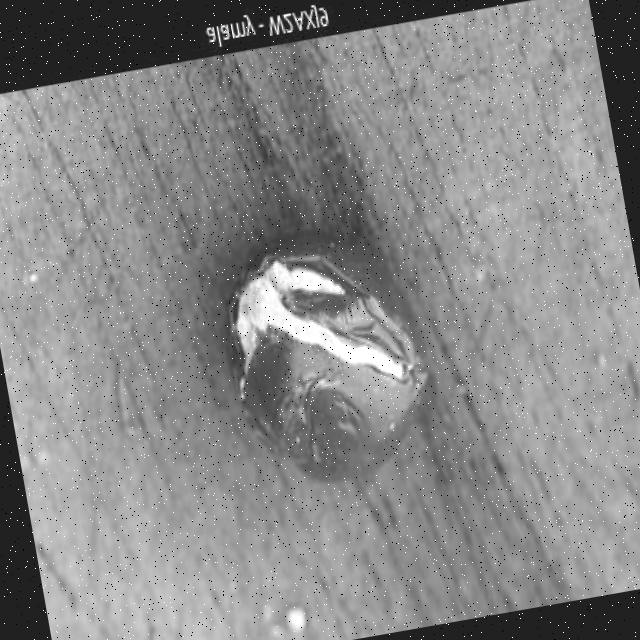Rotten: (207, 208, 446, 501)
